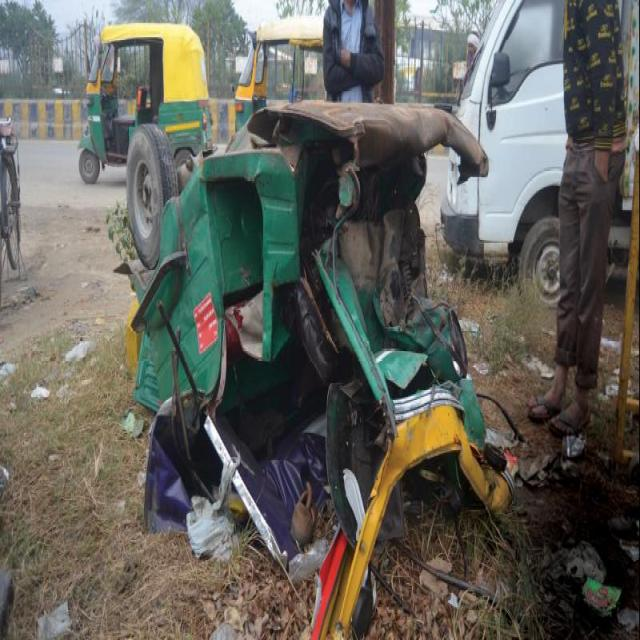accident: (120, 103, 511, 638)
autorickshaw: (79, 22, 211, 183), (235, 18, 323, 128)
truck: (441, 0, 566, 302)
